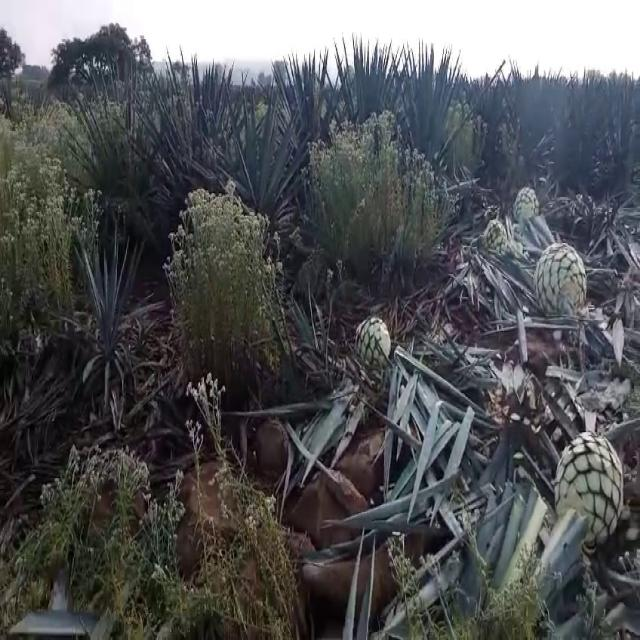agave: (554, 427, 626, 545), (533, 241, 586, 330), (355, 309, 389, 371), (512, 186, 538, 230), (482, 215, 509, 253)
